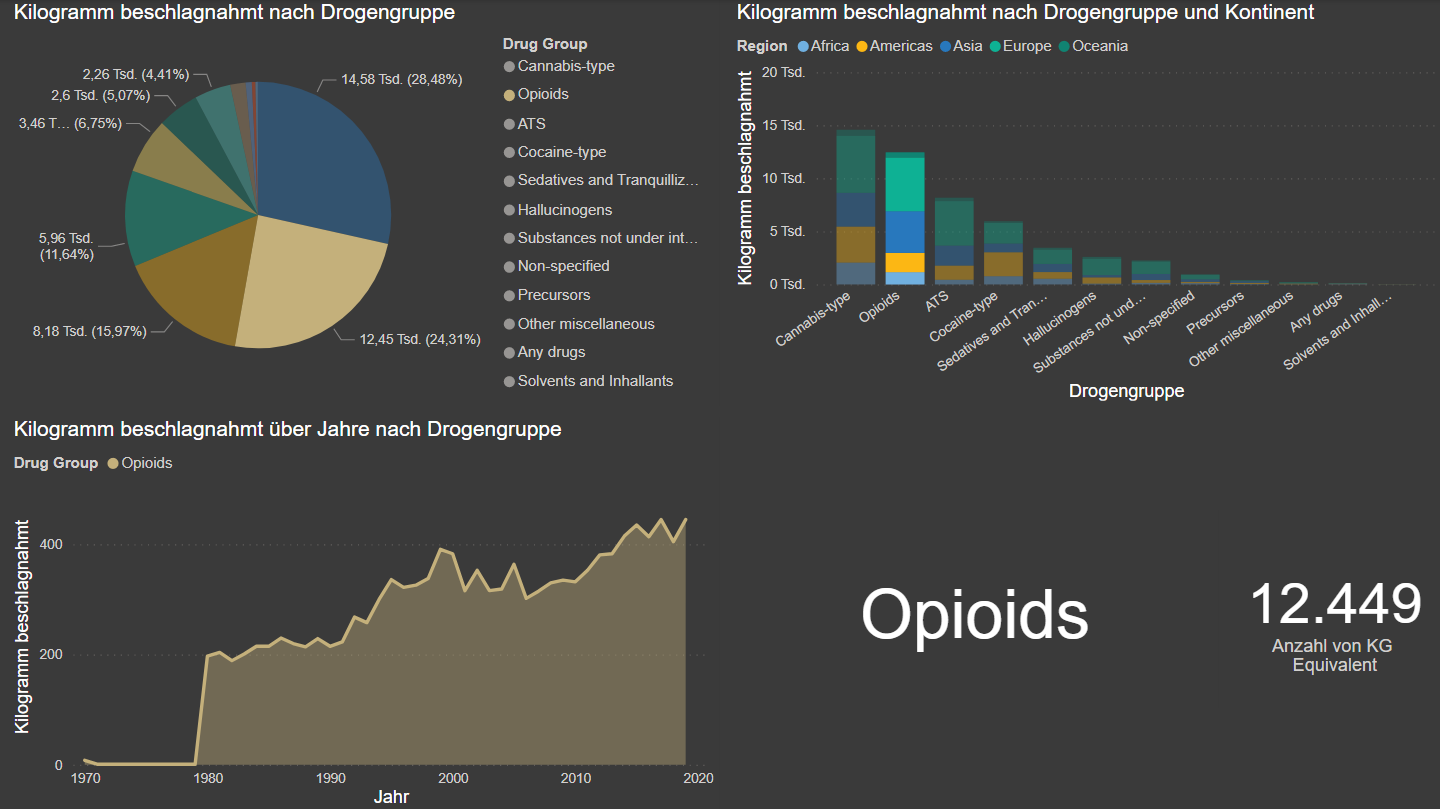

What the dashboard file says about the page in this screenshot:
{"tool":"powerbi","page":{"name":"Daten nach Drogengruppe","canvas":[1280,720],"ordinal":2},"visuals":[{"type":"pieChart","title":"Kilogramm beschlagnahmt nach Drogengruppe","fields":{"Y":["CountNonNull(seizures_1.KG Equivalent)"],"Category":["seizures_1.Drug Group"]},"box":[9.7,0,630.3,359.9],"z":0},{"type":"areaChart","title":"Kilogramm beschlagnahmt über Jahre nach Drogengruppe","fields":{"Category":["seizures_1.Year"],"Y":["CountNonNull(seizures_1.KG Equivalent)"],"Series":["seizures_1.Drug Group"]},"box":[9.7,369.6,630.3,350.2],"z":1000},{"type":"columnChart","title":"Kilogramm beschlagnahmt nach Drogengruppe und Kontinent","fields":{"Y":["CountNonNull(seizures_1.KG Equivalent)"],"Category":["seizures_1.Drug Group"],"Series":["seizures_1.Region"]},"box":[650,0,630,360],"z":2000},{"type":"card","fields":{"Values":["Min(seizures_1.Drug Group)"]},"box":[649.7,451.3,431.9,175.1],"z":3000},{"type":"card","fields":{"Values":["CountNonNull(seizures_1.KG Equivalent)"]},"box":[1089.4,451.3,190.6,175.1],"z":4000}]}

Visuals, with their boxes in screenshot pixels (x1, y1, x2, y2), scaled from the page's 1280x720 canvas onto the 1440x809 screenshot:
"Kilogramm beschlagnahmt nach Drogengruppe" pieChart: [x1=11, y1=0, x2=720, y2=404]
"Kilogramm beschlagnahmt über Jahre nach Drogengruppe" areaChart: [x1=11, y1=415, x2=720, y2=808]
"Kilogramm beschlagnahmt nach Drogengruppe und Kontinent" columnChart: [x1=731, y1=0, x2=1439, y2=404]
card - Min(seizures_1.Drug Group): [x1=731, y1=507, x2=1217, y2=704]
card - CountNonNull(seizures_1.KG Equivalent): [x1=1226, y1=507, x2=1439, y2=704]
